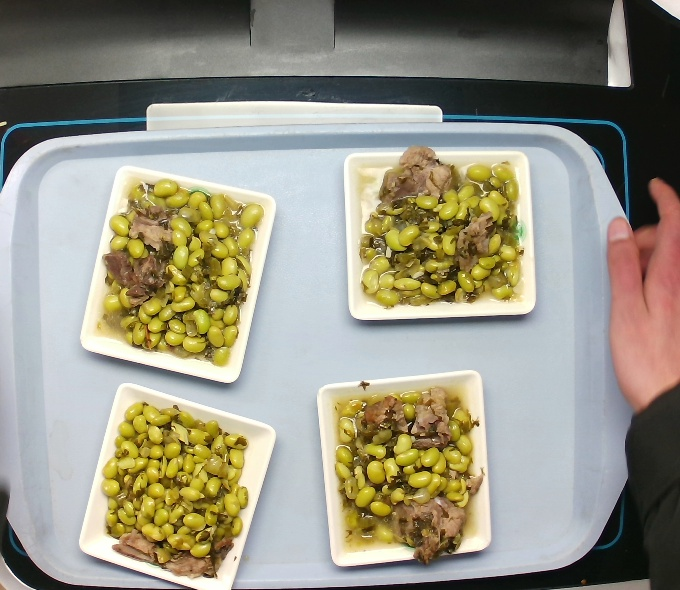wcq-ZhuRouDunDou: (92, 173, 264, 373), (356, 139, 530, 312), (94, 397, 249, 581), (330, 381, 485, 565)
